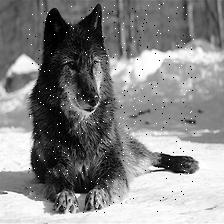WOLF: (27, 2, 196, 213)
